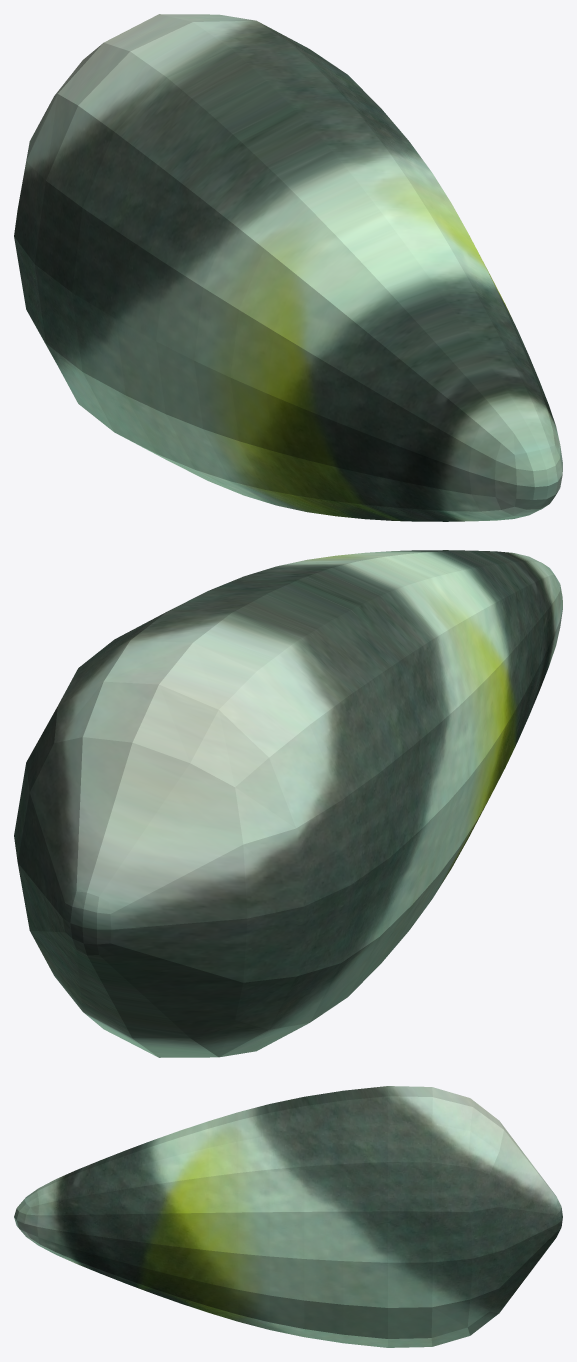
File: Fish2_2_new.dae
3 views of the same model, one above another, from view 1: azimuth 30°, elevation 25°; view 2: azimuth 150°, elevation 25°; view 3: azimuth 270°, elevation 25° (orthographic). The views are drawn at different scales.
Visible parts, largest first — view 1: Cube; view 2: Cube; view 3: Cube.
Part boxes in pixels (box(x1,y1,x2,y2)): Cube: box(14, 14, 562, 521); Cube: box(14, 550, 562, 1057); Cube: box(14, 1086, 562, 1347).
Size of the model in its own units: 6.8 by 17.24 by 8.36.
1 material, 1 textured.
